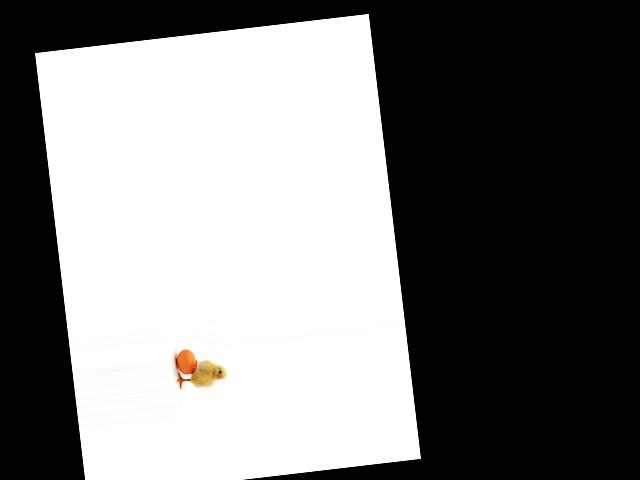egg: (175, 348, 197, 376)
